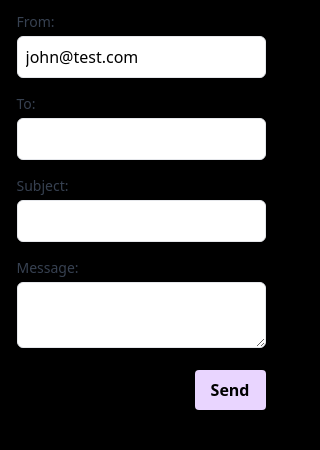
Test case: EmailForm › displays error message on failed form submission
The width and height of the screenshot is (320, 450).
Type "recipient@test.com" into the field labelled "To:" at (141, 139), box [16,118,266,160]
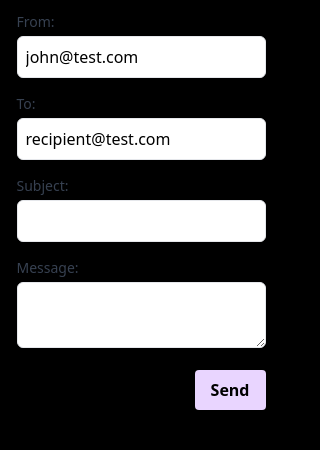
Type "Test" into the field labelled "Subject:" at (141, 221), box [16,200,266,242]
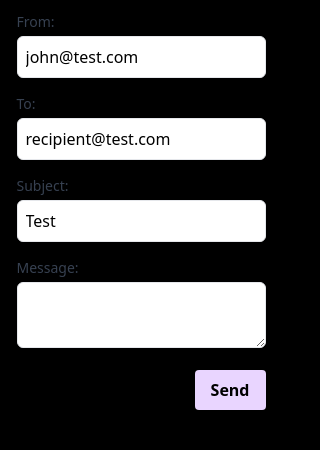
Type "Test message" into the text box labelled "Message:" at (141, 315), box [16,282,266,348]
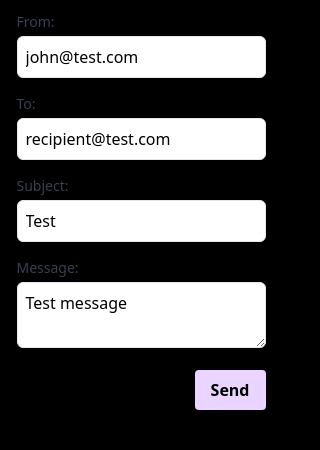
Click the button "Send" at (230, 390), box [195,370,266,410]
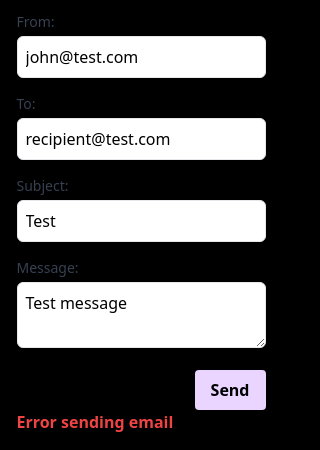
Now the text "Error sending email" is shown, box [16,411,173,433]
